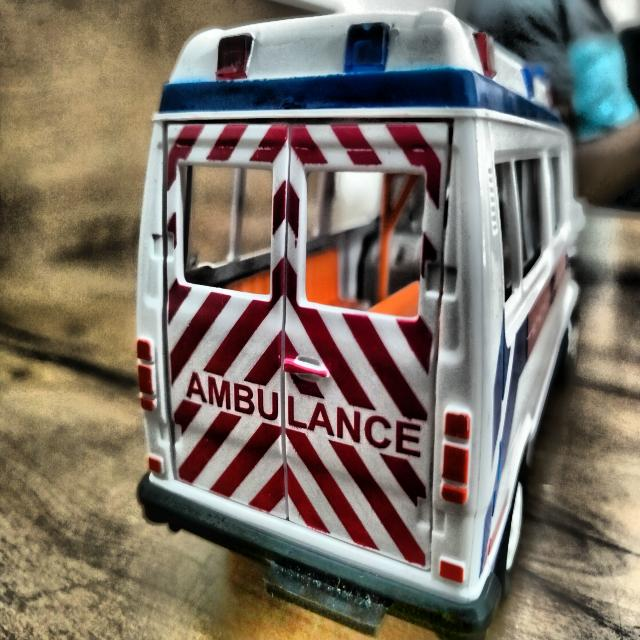Ambulance: (128, 2, 591, 626)
